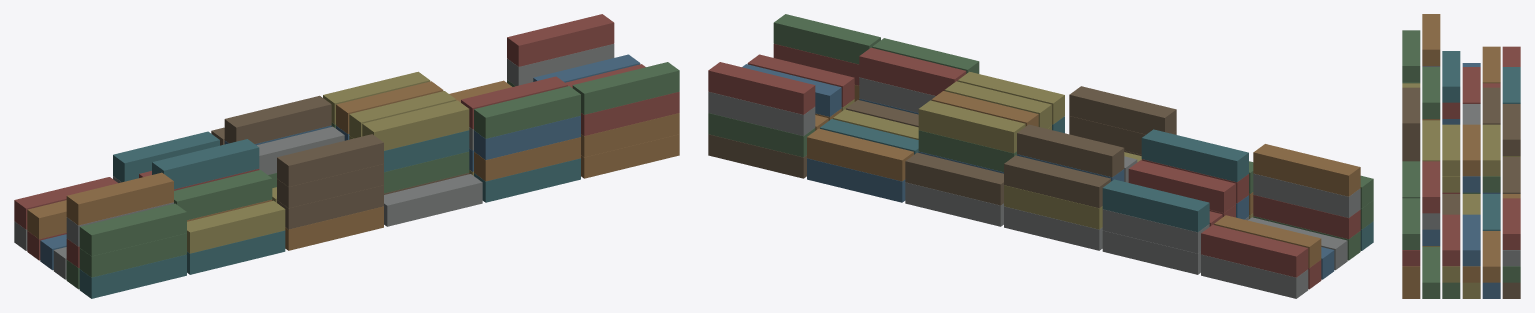
The model's file is container_stack_12.glb.
3 renders of one model, left to right at view 1: azimuth 30°, elevation 25°; view 2: azimuth 150°, elevation 25°; view 3: azimuth 270°, elevation 25°, orthographic. The views are drawn at different scales.
Parts seen in each view (by area): view 1: LOD0; view 2: LOD0; view 3: LOD0.
Boxes of the visible parts, x1,y1,x2,y2 form: LOD0: (14, 14, 679, 298); LOD0: (708, 14, 1373, 298); LOD0: (1402, 14, 1520, 298).
Size of what is drawn, in the model's own units: 75.2 by 10.38 by 17.1.
